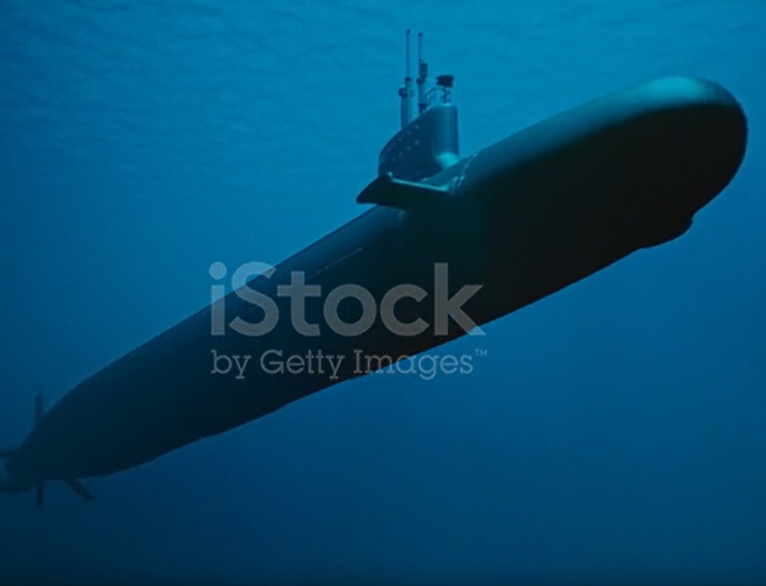submarine: (7, 27, 743, 496)
